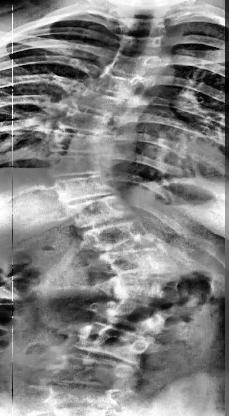Vertebrae: (44, 352, 138, 392), (70, 324, 158, 364), (102, 268, 184, 308), (87, 300, 177, 334), (96, 245, 180, 277), (81, 222, 159, 252), (52, 173, 124, 205), (66, 195, 138, 225), (48, 150, 116, 180), (90, 70, 148, 96), (46, 128, 104, 154), (56, 110, 108, 134), (109, 55, 165, 77), (73, 90, 119, 116), (117, 16, 167, 36), (116, 35, 164, 55)
